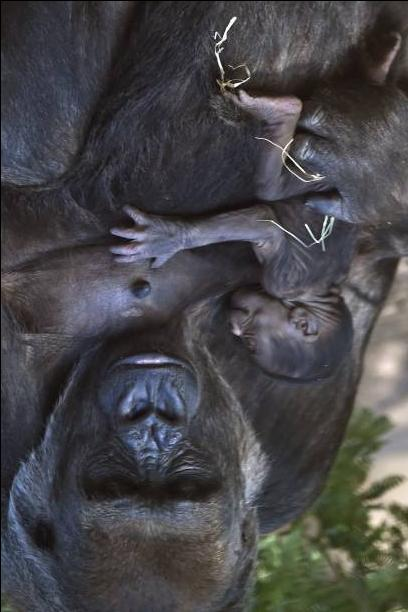gorille_Autres: (0, 341, 358, 612)
